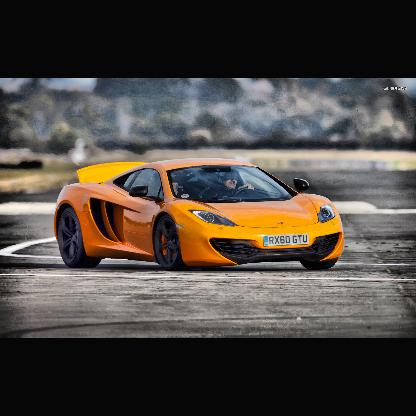McLaren MP4-12C Coupe 2012: (54, 157, 347, 274)
